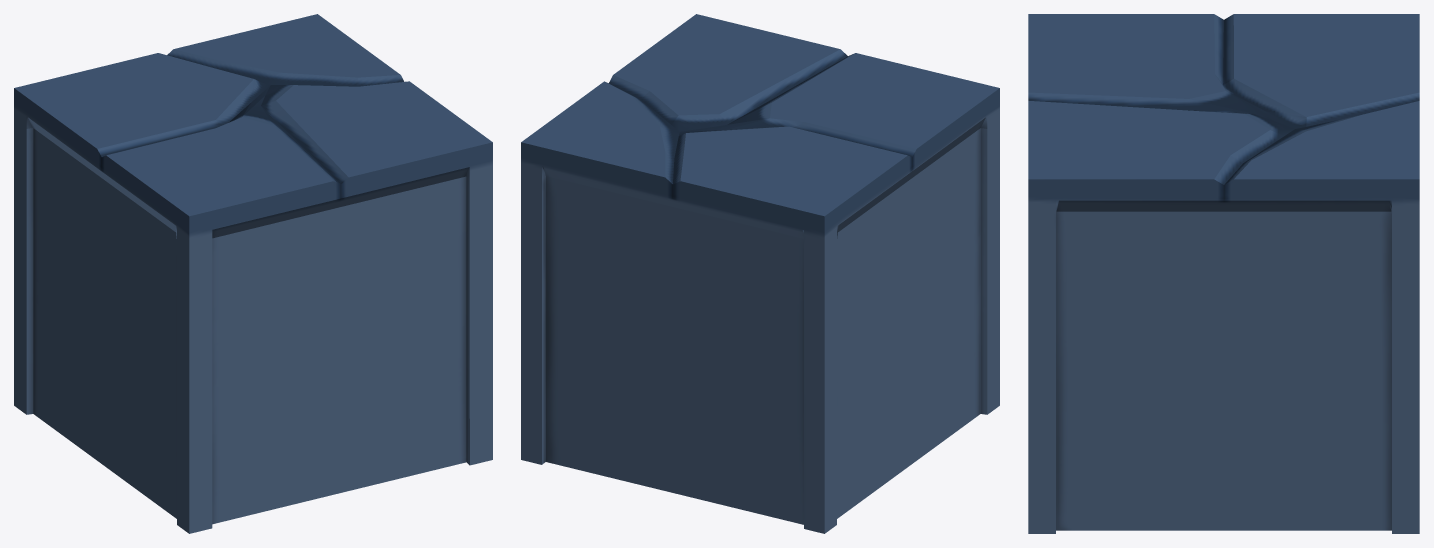
File: TileV2_20220509.obj
The picture shows the model from 3 angles, left to right: view 1: azimuth 30°, elevation 25°; view 2: azimuth 150°, elevation 25°; view 3: azimuth 270°, elevation 25°; orthographic projection. The views are drawn at different scales.
Parts seen in each view (by area): view 1: pCube1; view 2: pCube1; view 3: pCube1.
Part boxes in pixels (x1,y1,x2,y2): pCube1: (14, 14, 492, 533); pCube1: (521, 14, 999, 533); pCube1: (1028, 14, 1419, 533).
Size of the model in its own units: 5 by 5 by 5.
